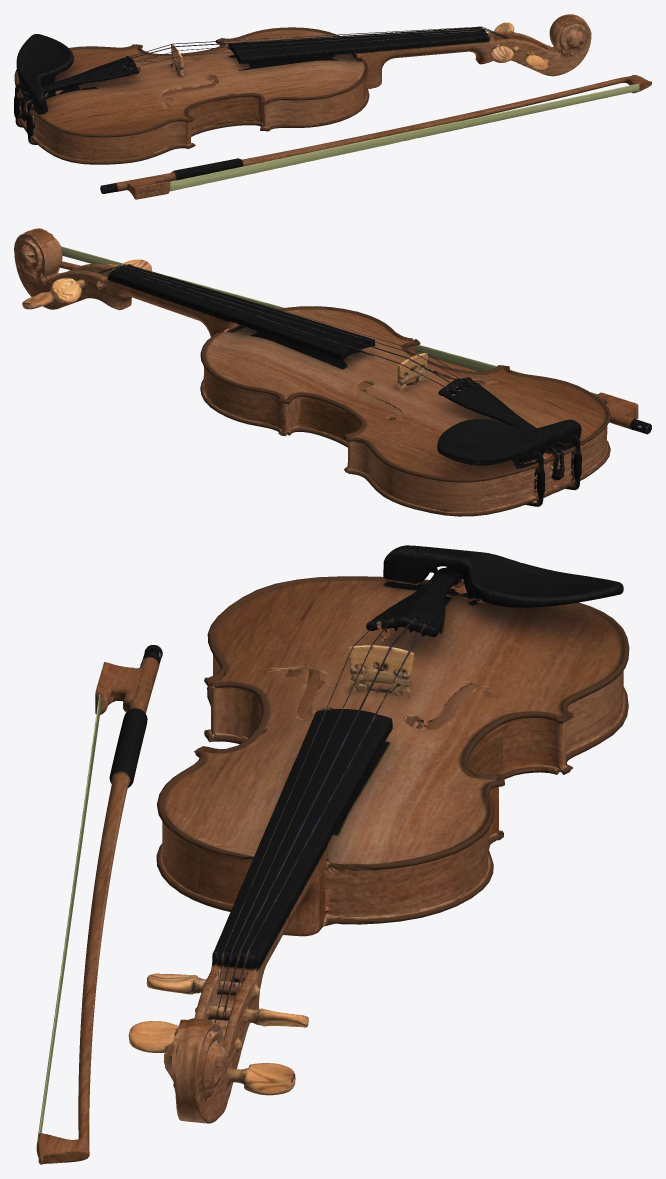
File: obj_violin_401df6.glb
3 renders of one model, top to bottom at view 1: azimuth 30°, elevation 25°; view 2: azimuth 150°, elevation 25°; view 3: azimuth 270°, elevation 25°, orthographic. The views are drawn at different scales.
Visible parts, largest first — view 1: obj_violin_401df6; view 2: obj_violin_401df6; view 3: obj_violin_401df6.
Part boxes in pixels (box(x1,y1,x2,y2)): obj_violin_401df6: box(14, 14, 651, 199); obj_violin_401df6: box(14, 228, 651, 516); obj_violin_401df6: box(36, 545, 629, 1164).
Size of the model in its own units: 4.51 by 0.6 by 2.18.
Materials: 1 (1 with a texture image).
